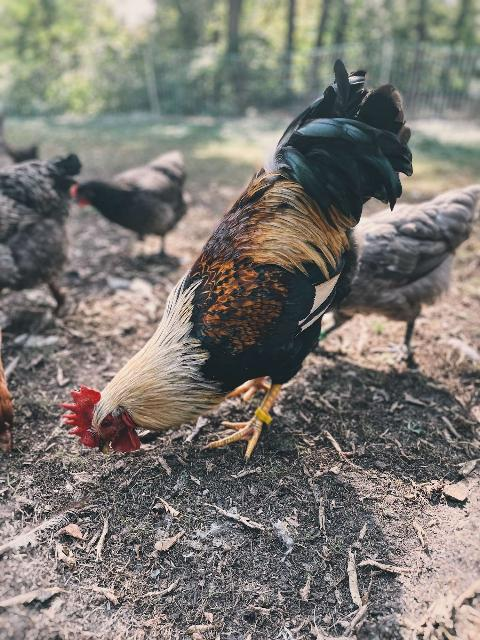Chicken: (57, 60, 415, 460), (322, 181, 475, 359), (67, 151, 187, 260), (5, 151, 80, 310)
